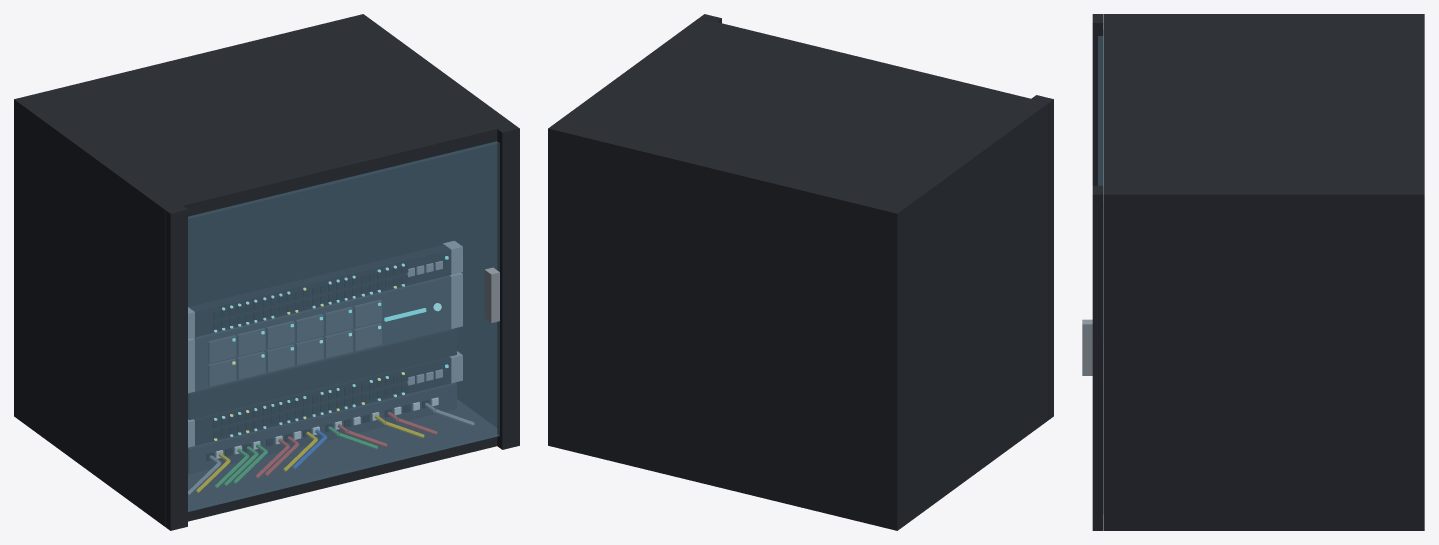
File: 06_Wall_Network_Cabinet_9U.fbx
3 views of the same model, side by side, from view 1: azimuth 30°, elevation 25°; view 2: azimuth 150°, elevation 25°; view 3: azimuth 270°, elevation 25° (orthographic). The views are drawn at different scales.
Visible parts, largest first — view 1: 06_Wall_Network_Cabinet_9U; view 2: 06_Wall_Network_Cabinet_9U; view 3: 06_Wall_Network_Cabinet_9U.
Boxes of the visible parts, x1,y1,x2,y2 form: 06_Wall_Network_Cabinet_9U: (14, 14, 519, 530); 06_Wall_Network_Cabinet_9U: (548, 14, 1053, 530); 06_Wall_Network_Cabinet_9U: (1082, 14, 1424, 530).
Bounding box in the file's own units: 0.6 × 0.5205 × 0.48.
